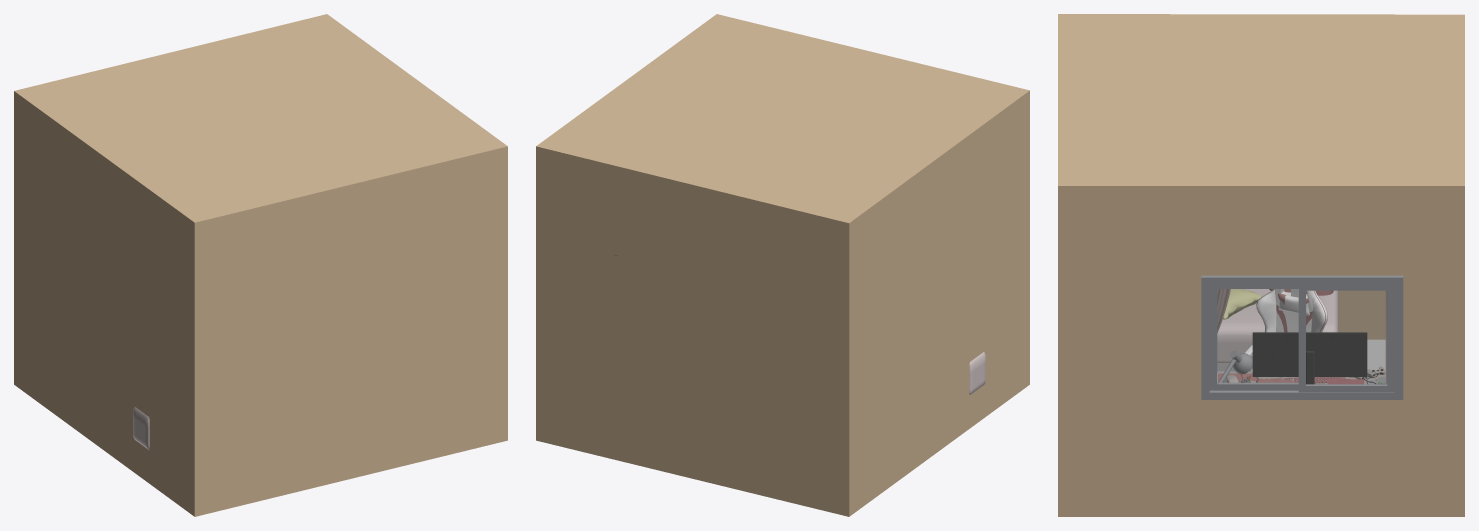
Rendered from Room5.fbx.
The picture shows the model from 3 angles, left to right: view 1: azimuth 30°, elevation 25°; view 2: azimuth 150°, elevation 25°; view 3: azimuth 270°, elevation 25°; orthographic projection. The views are drawn at different scales.
Parts seen in each view (by area): view 1: Wall_02, Quilt; view 2: Wall_02, Quilt; view 3: Wall_02, Glass, Window, Monitor, EsportsChair, Quilt, Wall_01, Others, Pillow03, Floor.
Part boxes in pixels (<box>): Wall_02: <box>14,14,507,516</box>; Quilt: <box>133,407,149,449</box>; Wall_02: <box>536,14,1029,516</box>; Quilt: <box>969,352,985,394</box>; Wall_02: <box>1058,14,1464,516</box>; Glass: <box>1217,289,1386,384</box>; Window: <box>1201,275,1403,399</box>; Monitor: <box>1252,332,1367,384</box>; EsportsChair: <box>1245,289,1327,356</box>; Quilt: <box>1217,289,1337,362</box>; Wall_01: <box>1338,290,1385,339</box>; Others: <box>1218,350,1385,384</box>; Pillow03: <box>1223,289,1262,319</box>; Floor: <box>1217,339,1385,371</box>.
Size of the model in its own units: 279 by 246 by 274.
